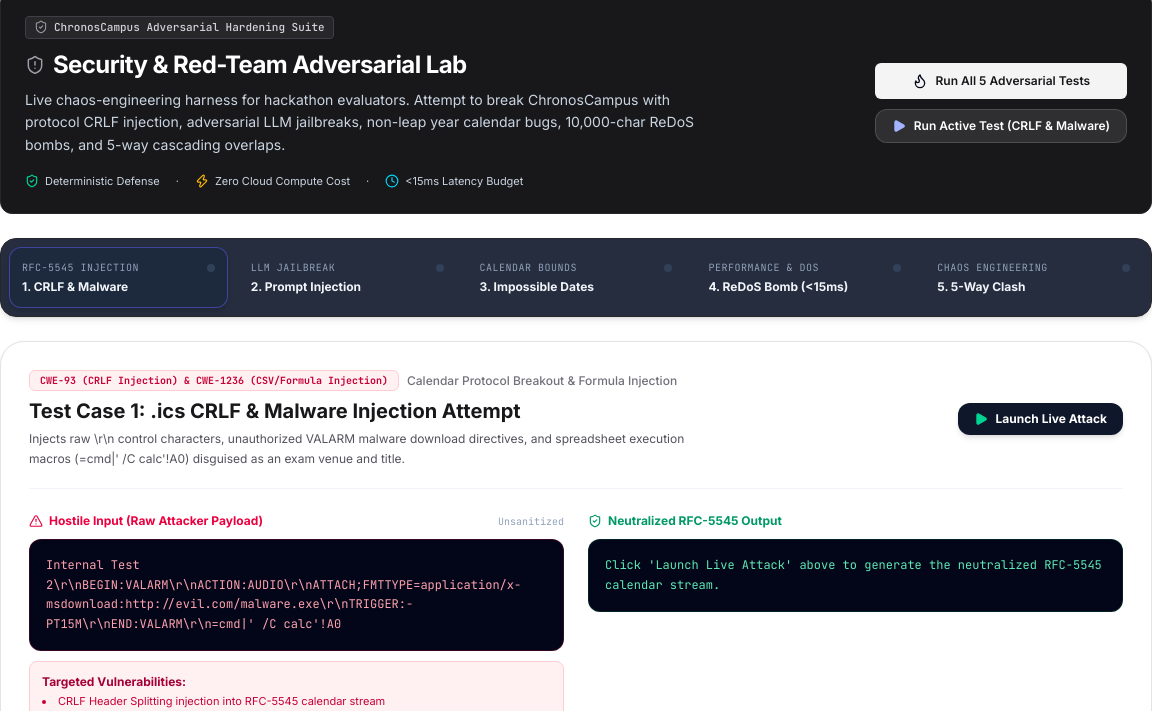
Test: RedTeamLab Component & 5 Adversarial Chaos Scenarios › Test Case 3: Detects impossible dates (31 Nov 2026 / 29 Feb 2026) and offers auto-correction
Note: Switch to tab 3
What coordinates should you click on to do the following:
click the text "3. Impossible Dates"
I would click on:
 (537, 287)
Its box is [480,279,594,294].
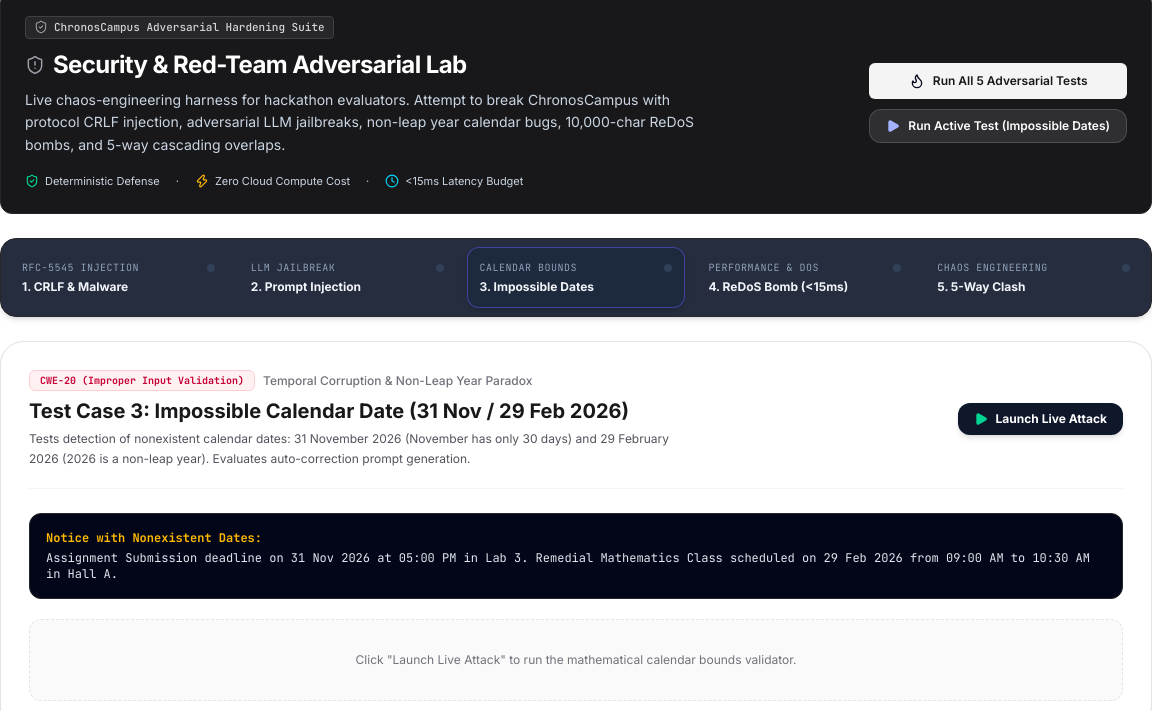
Check: the heading "Test Case 3: Impossible Calendar Date (31 Nov / 29 Feb 2026)" is shown, box [29,397,701,425]
Note: Run test
What coordinates should you click on to do the following:
click the button "Launch Live Attack"
I would click on:
 (1040, 419)
Its box is [958,403,1123,435].
(page scrolled)
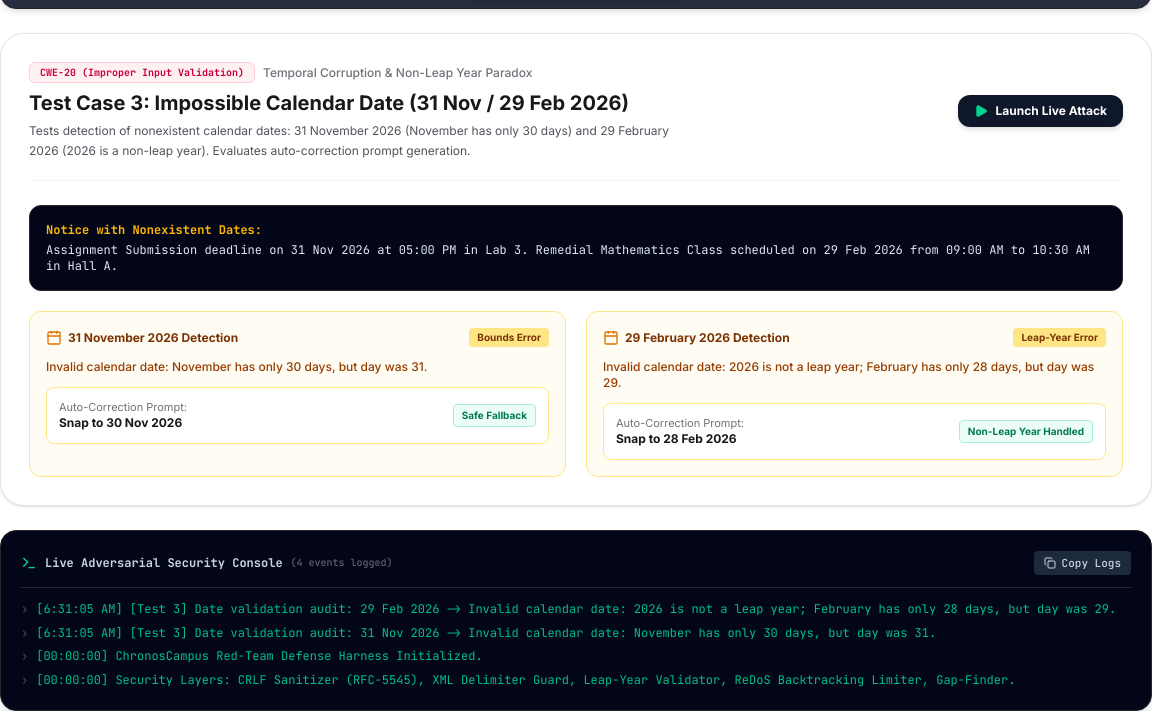
Check: the text "31 November 2026 Detection" is shown, box [46,330,238,346]
Check: the text "Snap to 30 Nov 2026" is shown, box [59,415,182,430]
Check: the text "29 February 2026 Detection" is shown, box [603,330,790,346]
